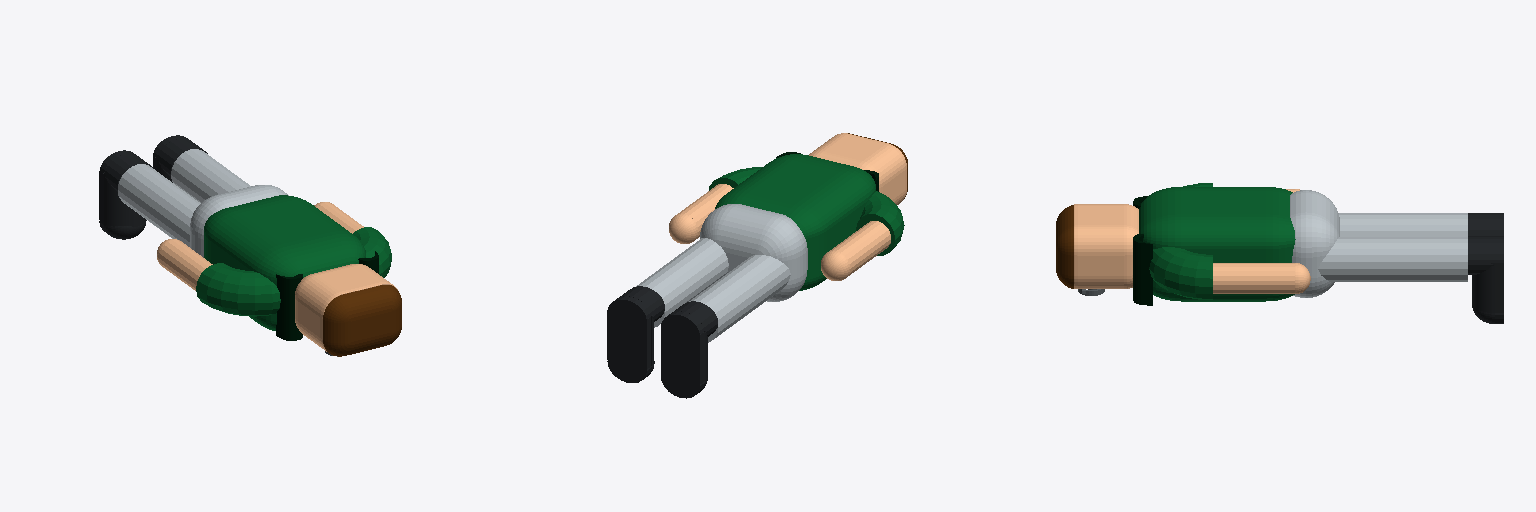
Rendered from jonathan.obj.
3 renders of one model, left to right at view 1: azimuth 30°, elevation 25°; view 2: azimuth 150°, elevation 25°; view 3: azimuth 270°, elevation 25°, orthographic.
Parts seen in each view (by area): view 1: obj_0; view 2: obj_0; view 3: obj_0.
Boxes of the visible parts, x1=… form: obj_0: x1=99, y1=135, x2=401, y2=356; obj_0: x1=607, y1=133, x2=907, y2=398; obj_0: x1=1056, y1=183, x2=1503, y2=323.
Size of the model in its own units: 47.5 by 26 by 98.48.